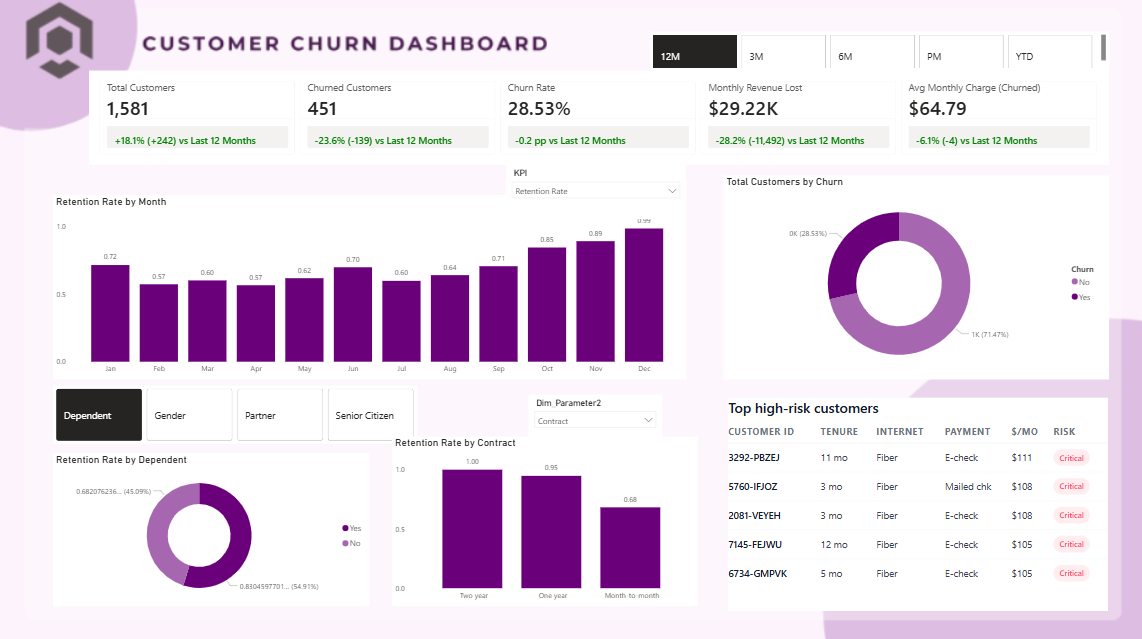

This screenshot's page, from the dashboard's own definition file:
{"tool":"powerbi","page":{"name":"Overview dashboard","canvas":[1920,1080],"ordinal":1},"visuals":[{"type":"cardVisual","fields":{"Data":["_Measures.Total Customers","_Measures.Churned Customers","_Measures.Churn Rate","_Measures.Monthly Revenue Lost","_Measures.Avg Monthly Charge (Churned)"]},"box":[155,122.5,1700,157.5],"z":0},{"type":"advancedSlicerVisual","fields":{"Values":["Time Period Table.Time Period"]},"box":[1090,57.5,765,65],"z":1000},{"type":"clusteredColumnChart","fields":{"Category":["Date.Month"],"Y":["_Measures.Churn Rate"]},"box":[95,330,1055,307.5],"z":2000},{"type":"donutChart","fields":{"Category":["Telco_Churn.Churn"],"Y":["_Measures.Total Customers"]},"box":[1212.5,297.5,642.5,340],"z":3000},{"type":"advancedSlicerVisual","fields":{"Values":["Dim_Parameter.Dim_Parameter"]},"box":[95,647.5,607.5,97.5],"z":4000},{"type":"donutChart","fields":{"Category":["Telco_Churn.SeniorCitizen"],"Y":["_Measures.Churn Rate"]},"box":[95,760,527.5,255],"z":5000},{"type":"slicer","fields":{"Values":["Dim_Parameter2.Dim_Parameter2"]},"box":[887.5,662.5,222.5,70],"z":6000},{"type":"clusteredColumnChart","fields":{"Category":["Telco_Churn.Contract"],"Y":["_Measures.Churn Rate"]},"box":[660,732.5,510,282.5],"z":7000},{"type":"htmlContent443BE3AD55E043BF878BED274D3A6855","fields":{"content":["_Measures.Top Risk Customers HTML"]},"box":[1215,662.5,642.5,365],"z":8000},{"type":"slicer","fields":{"Values":["KPI.KPI"]},"box":[850,280,300,90],"z":9000}]}

Visuals, with their boxes in screenshot pixels (x1, y1, x2, y2), scaled from the page's 1920x1080 canvas onto the 1142x639 screenshot:
cardVisual - _Measures.Total Customers x _Measures.Churned Customers: (92,72,1103,166)
advancedSlicerVisual - Time Period Table.Time Period: (648,34,1103,72)
clusteredColumnChart - Date.Month x _Measures.Churn Rate: (57,195,684,377)
donutChart - Telco_Churn.Churn x _Measures.Total Customers: (721,176,1103,377)
advancedSlicerVisual - Dim_Parameter.Dim_Parameter: (57,383,418,441)
donutChart - Telco_Churn.SeniorCitizen x _Measures.Churn Rate: (57,450,370,601)
slicer - Dim_Parameter2.Dim_Parameter2: (528,392,660,433)
clusteredColumnChart - Telco_Churn.Contract x _Measures.Churn Rate: (393,433,696,601)
htmlContent443BE3AD55E043BF878BED274D3A6855 - _Measures.Top Risk Customers HTML: (723,392,1105,608)
slicer - KPI.KPI: (506,166,684,219)
